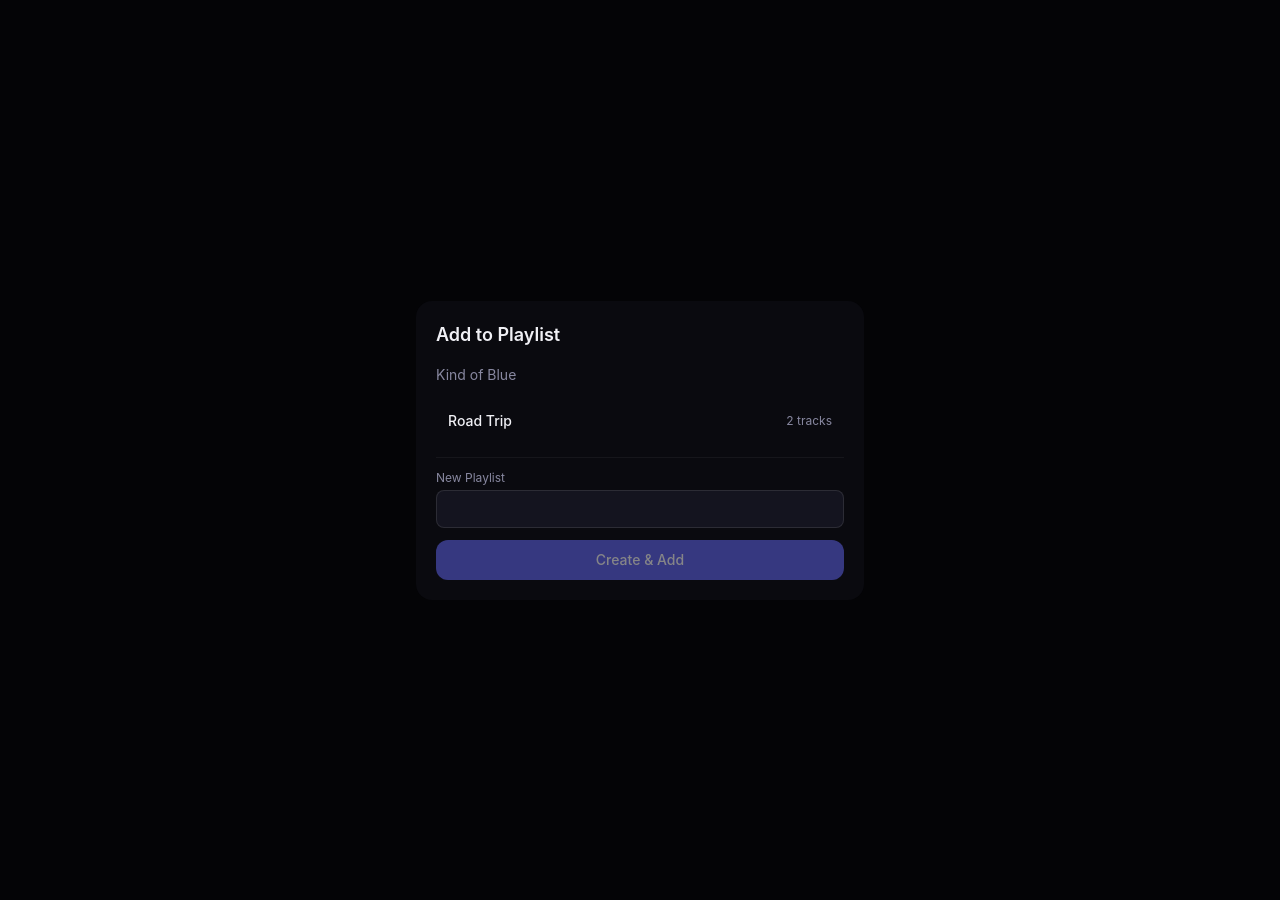
AddToPlaylistDialog › reports a failure without closing
Click the text "Road Trip" at (480, 420), box [448, 410, 512, 430]
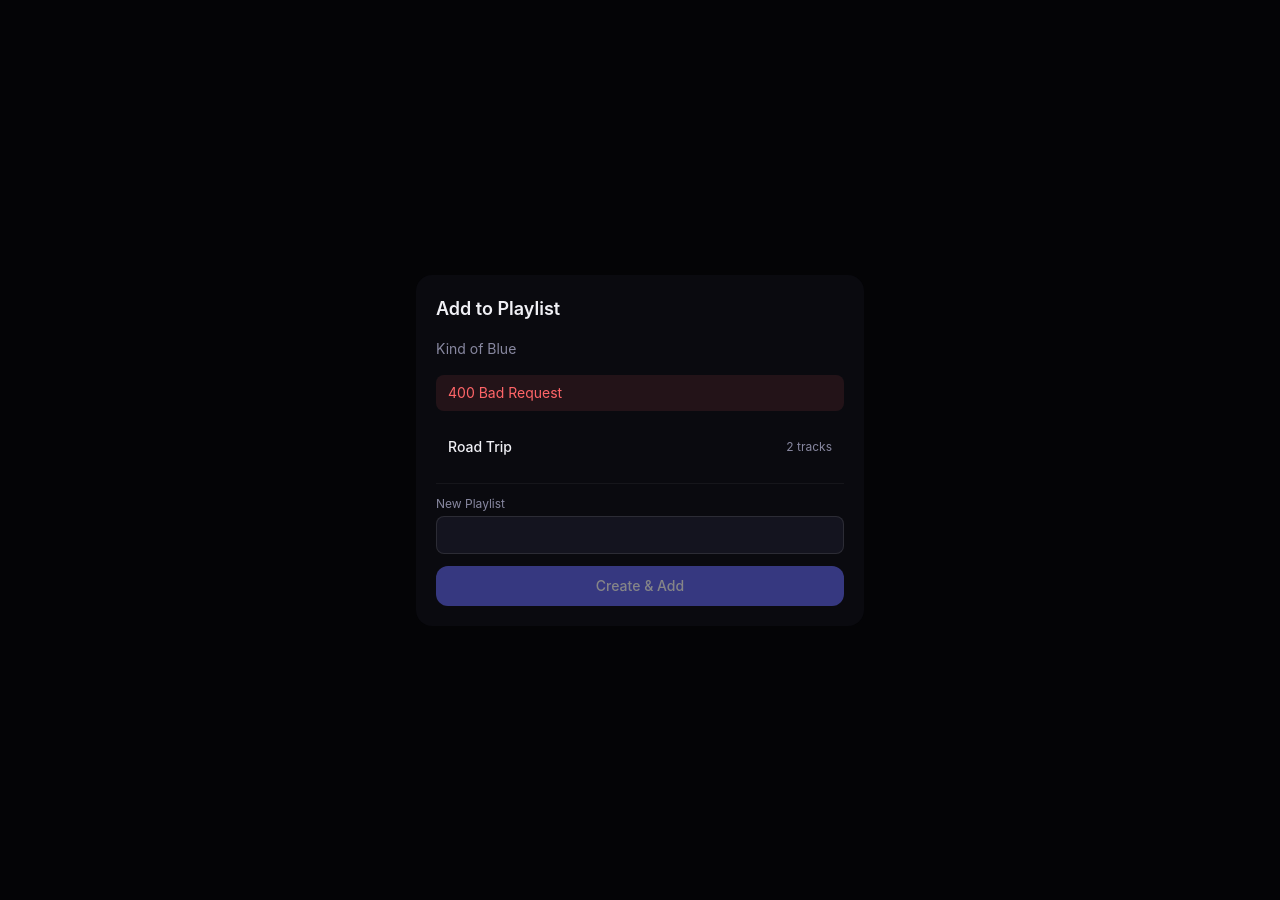
Expected: the text "400 Bad Request" is shown, [436, 374, 844, 410]
